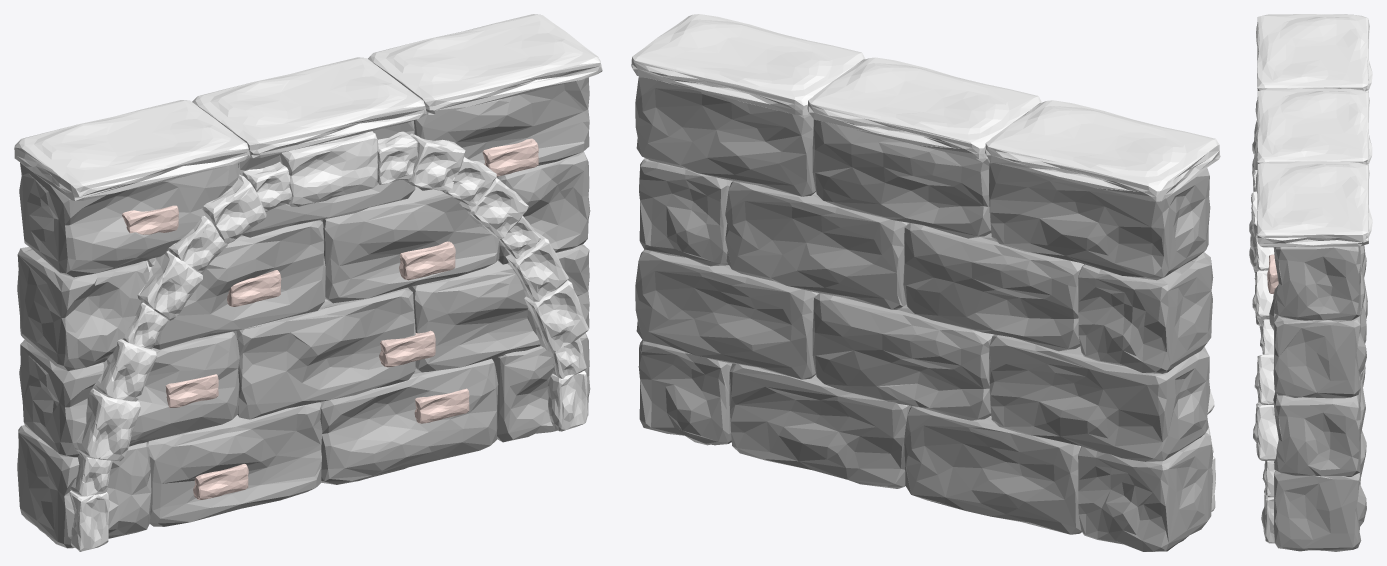
Rendered from Wall1LowPoly.fbx.
3 views of the same model, side by side, from view 1: azimuth 30°, elevation 25°; view 2: azimuth 150°, elevation 25°; view 3: azimuth 270°, elevation 25° (orthographic). The views are drawn at different scales.
Visible parts, largest first — view 1: Cube.010, Cube.016, Cube.018, Cube.038; view 2: Cube.010, Cube.016; view 3: Cube.010, Cube.016, Cube.018, Cube.038.
Boxes of the visible parts, left/top/right/bottom form: Cube.010: left=17, top=77, right=590, bottom=548; Cube.016: left=14, top=14, right=602, bottom=200; Cube.018: left=69, top=131, right=588, bottom=551; Cube.038: left=122, top=138, right=538, bottom=499; Cube.010: left=635, top=76, right=1213, bottom=551; Cube.016: left=631, top=14, right=1220, bottom=201; Cube.010: left=1269, top=245, right=1367, bottom=551; Cube.016: left=1255, top=14, right=1372, bottom=247; Cube.018: left=1249, top=120, right=1278, bottom=543; Cube.038: left=1267, top=254, right=1278, bottom=293.
Size of the model in its own units: 1216 by 837 by 284.
